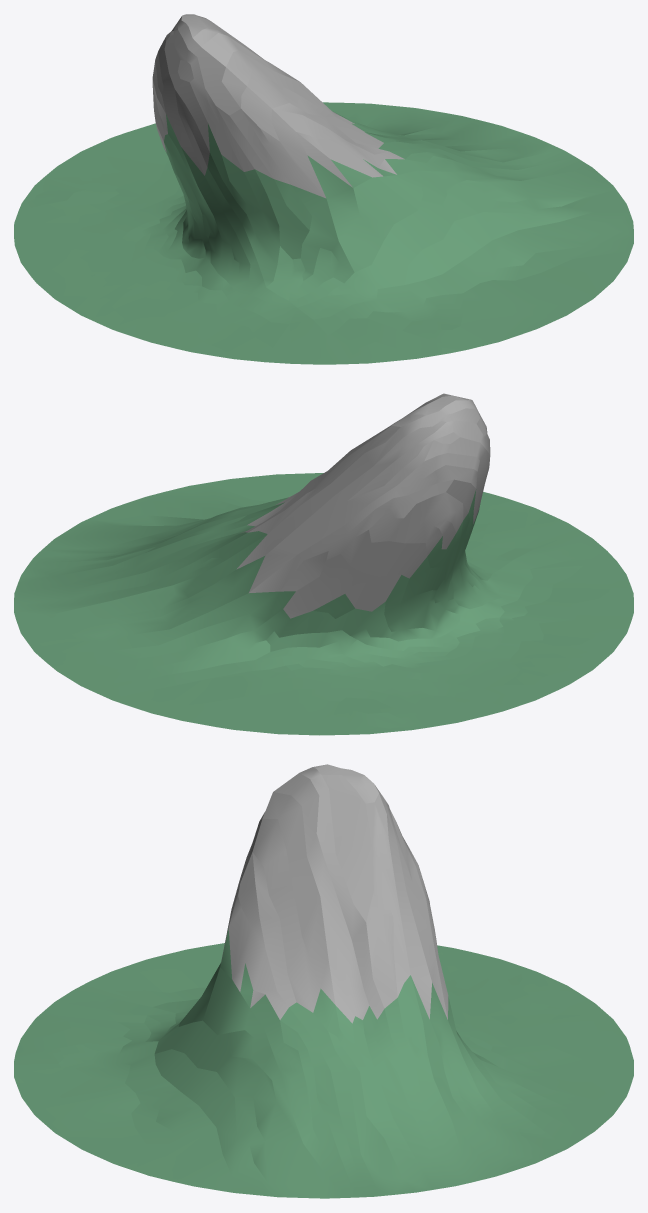
File: rock_beach_hero_C_layered.fbx
The picture shows the model from 3 angles, top to bottom: view 1: azimuth 30°, elevation 25°; view 2: azimuth 150°, elevation 25°; view 3: azimuth 270°, elevation 25°; orthographic projection.
Parts seen in each view (by area): view 1: rock_beach_hero_C_layered; view 2: rock_beach_hero_C_layered; view 3: rock_beach_hero_C_layered.
Boxes of the visible parts, x1,y1,x2,y2 form: rock_beach_hero_C_layered: [14, 14, 633, 364]; rock_beach_hero_C_layered: [14, 393, 633, 735]; rock_beach_hero_C_layered: [14, 764, 633, 1198].
Bounding box in the file's own units: 322 × 136 × 321.
